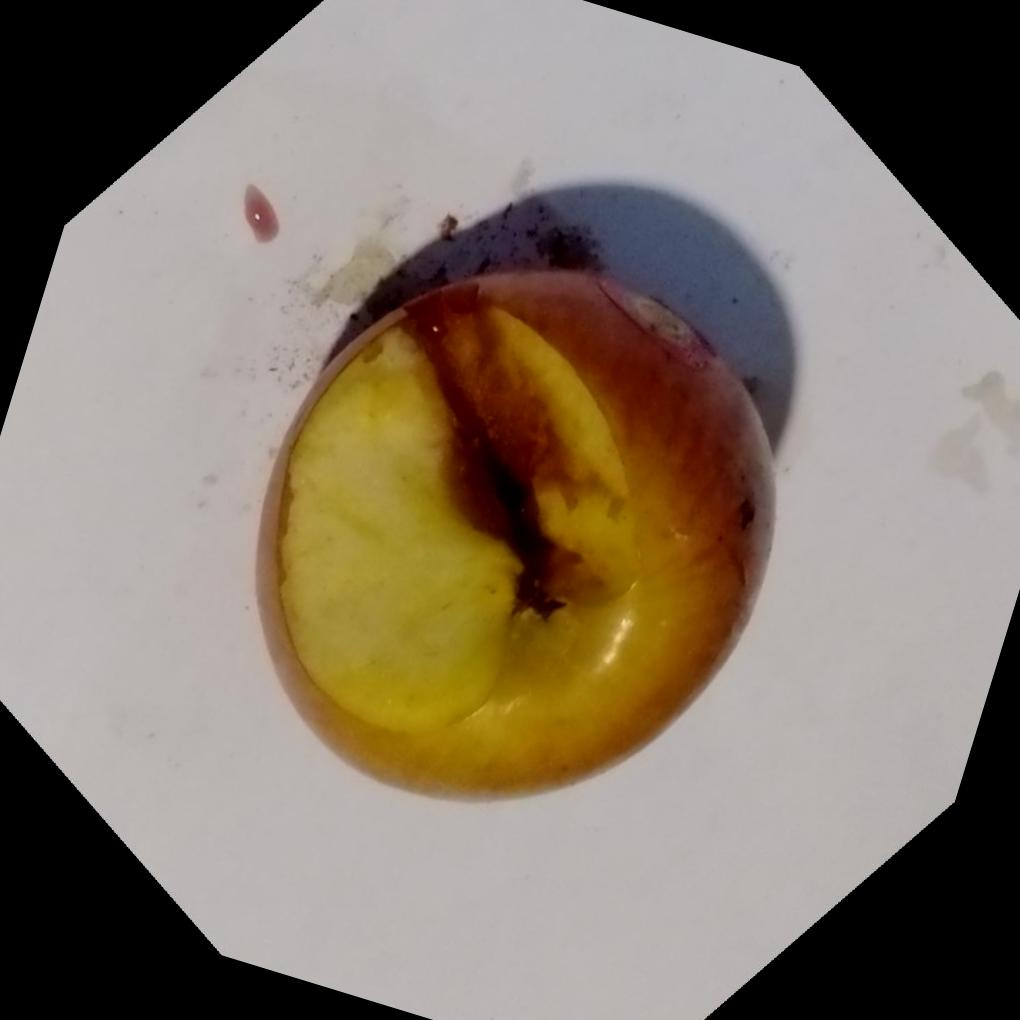FreshOrange: (258, 265, 778, 802)
